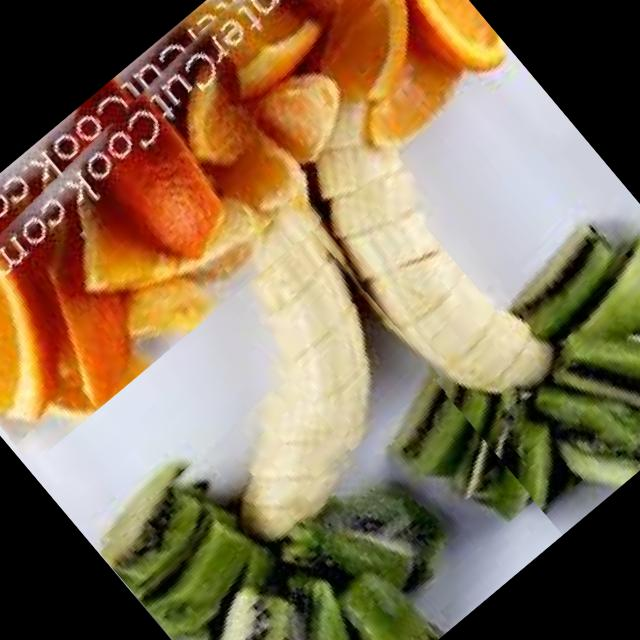Organic: (0, 0, 516, 467), (269, 11, 640, 535), (89, 376, 478, 640), (194, 192, 438, 450), (381, 391, 527, 546)
